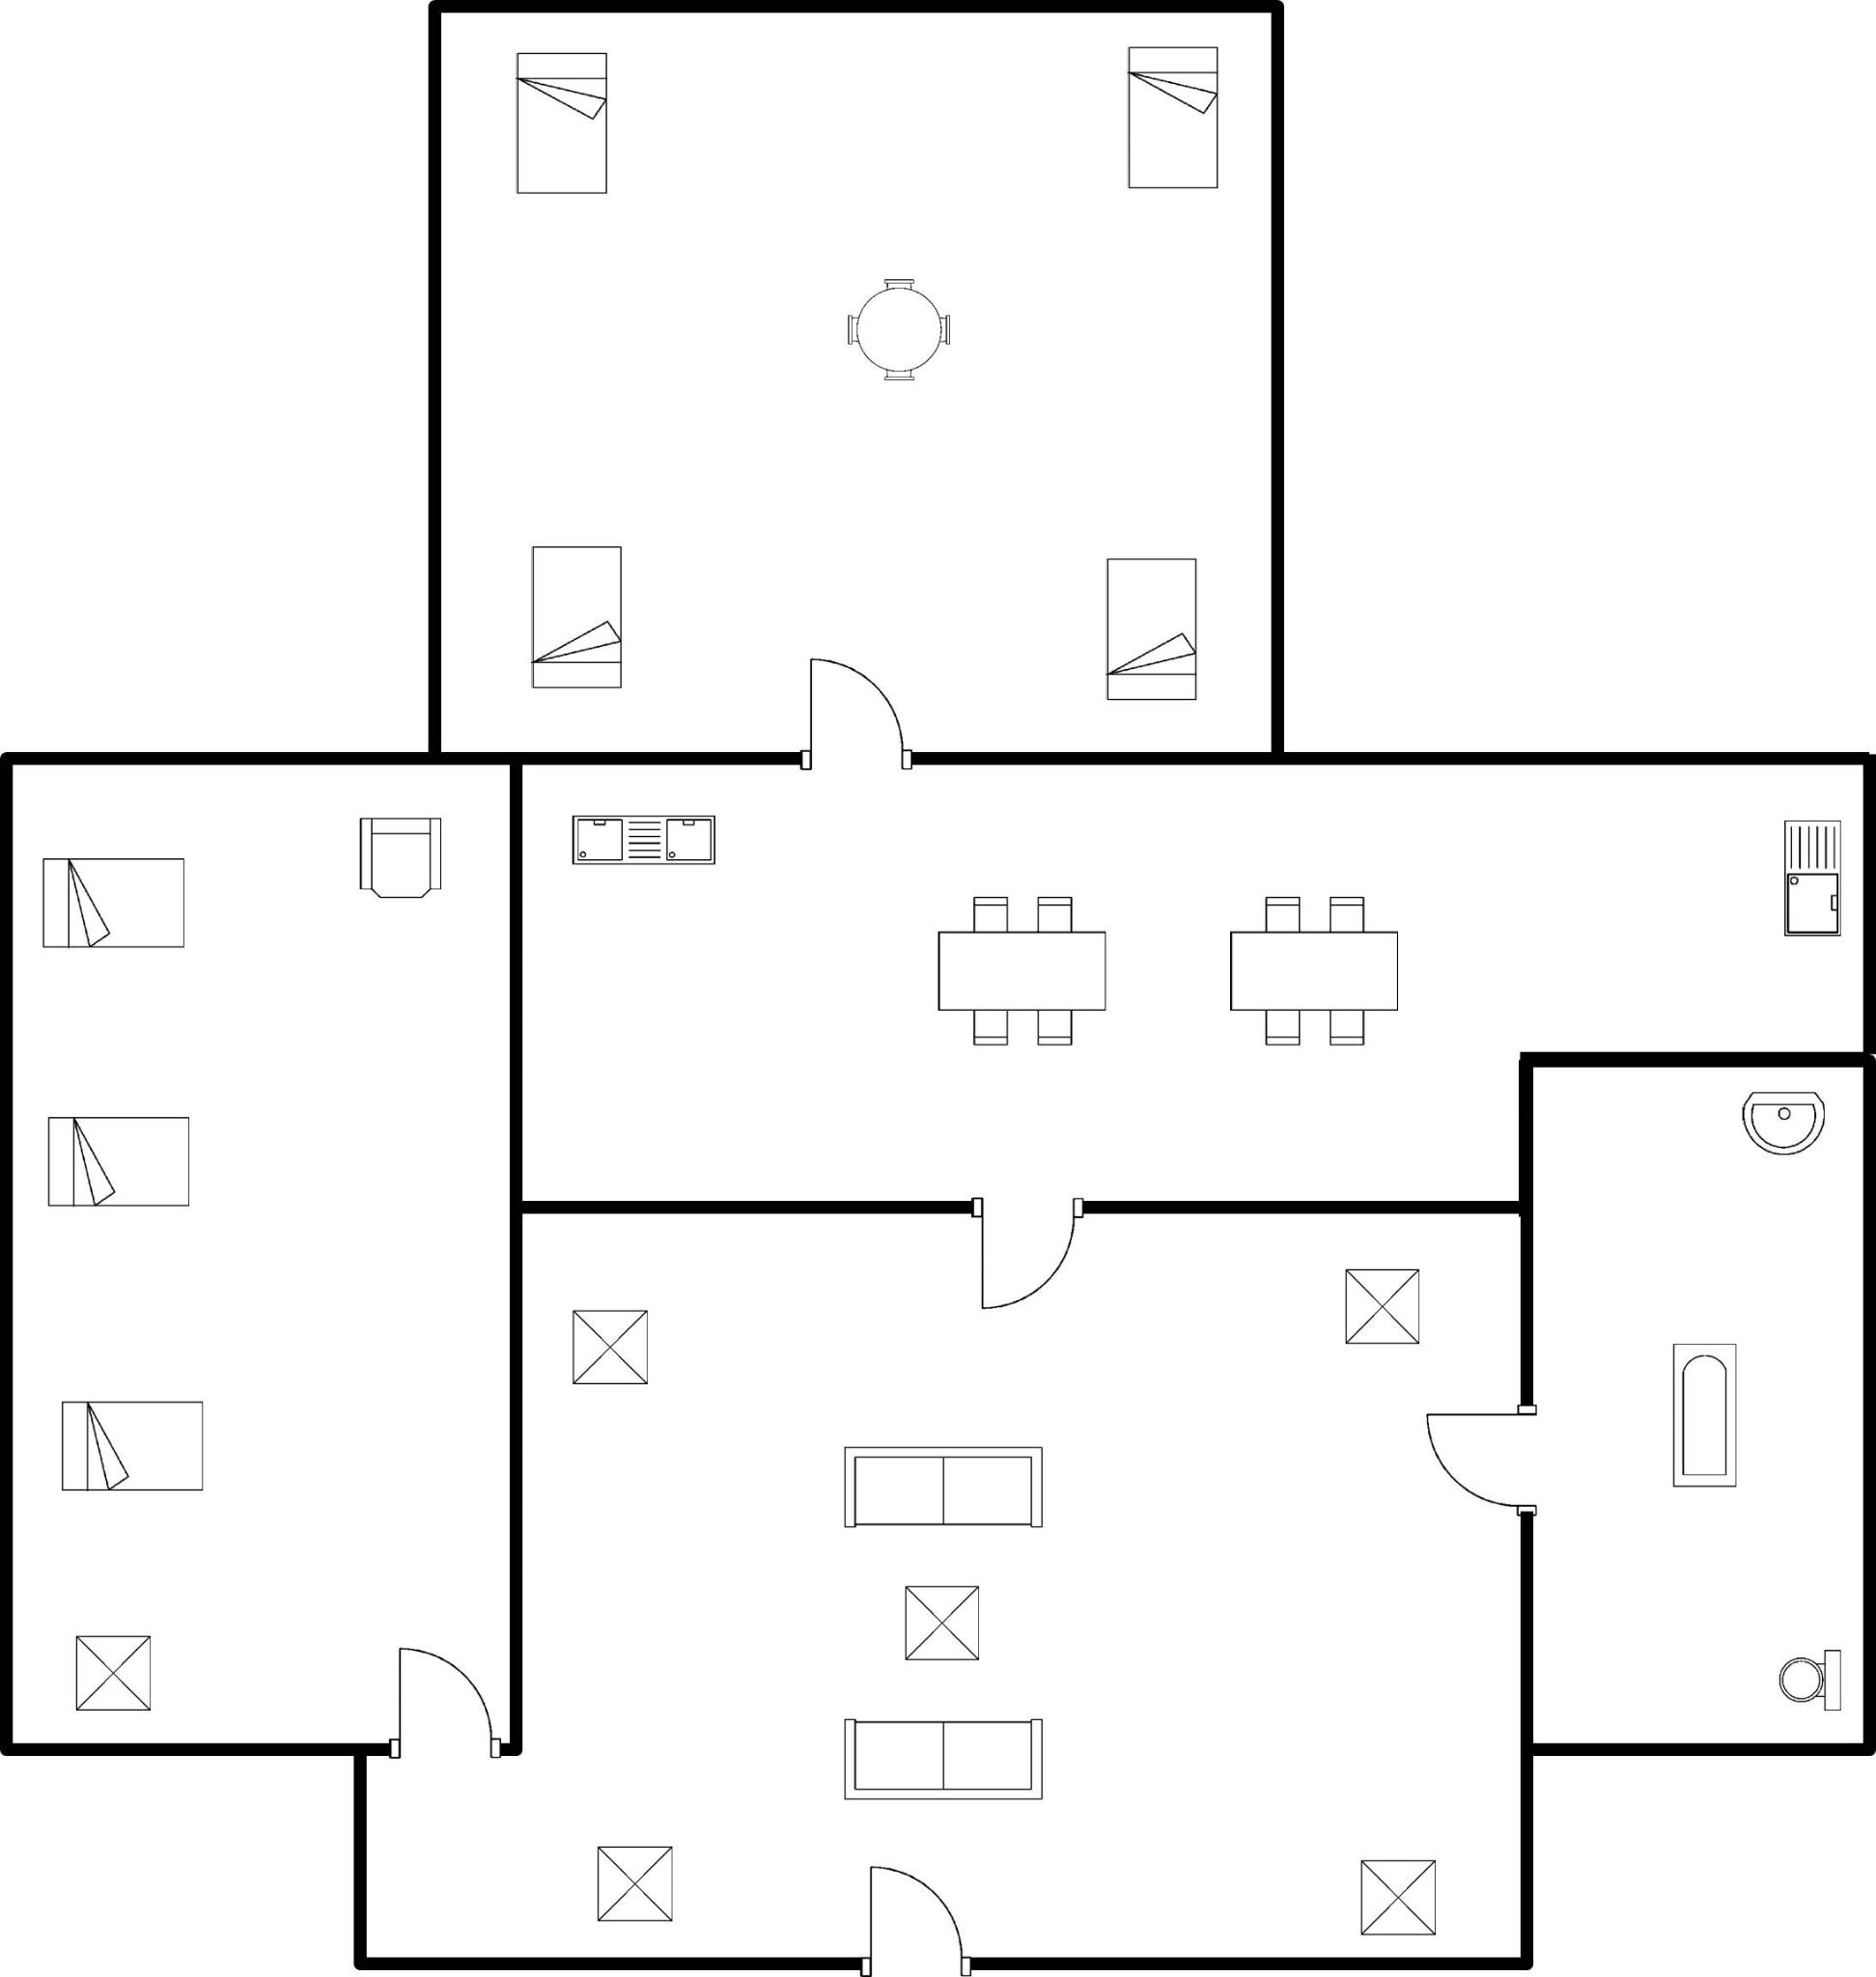sink: (561, 802, 730, 881)
